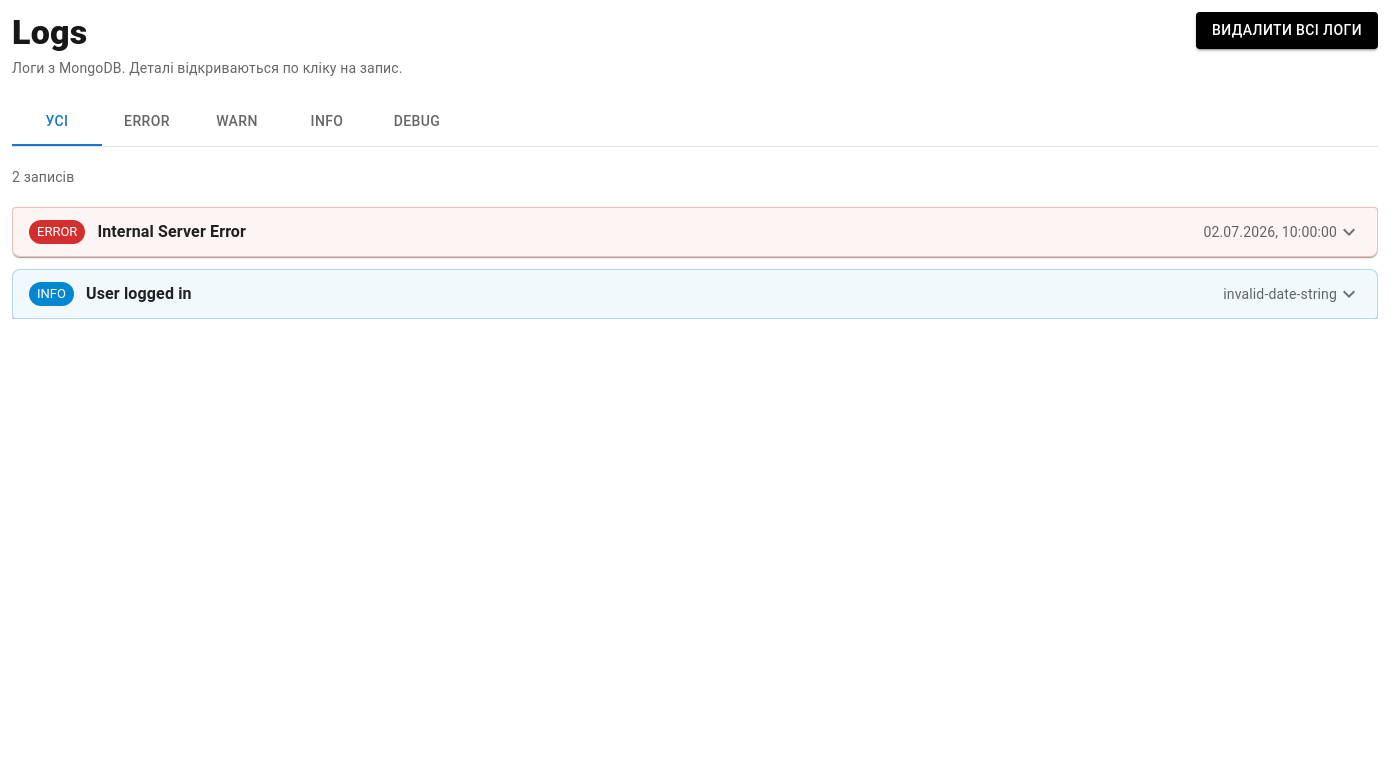
it: LogsPageClient › renders LogItem details and handles JsonBlock
Click the text "Internal Server Error". click: (172,232)
box: [97, 222, 246, 241]
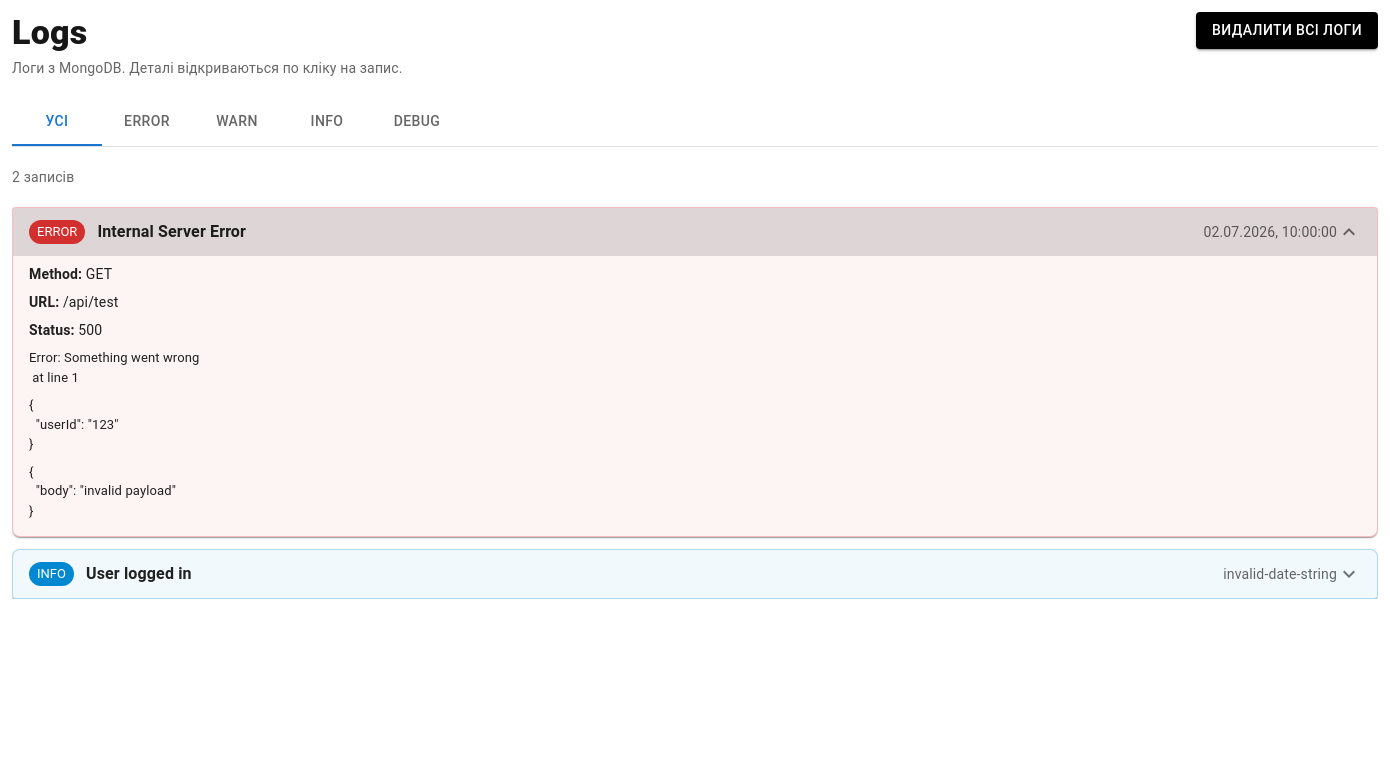
Check: the text "GET" is shown, box [86, 266, 112, 282]
Check: the text "/api/test" is shown, box [63, 294, 118, 310]
Check: the text "500" is shown, box [78, 322, 102, 338]
Click the text "User logged in". click: (139,574)
box: [86, 564, 192, 583]
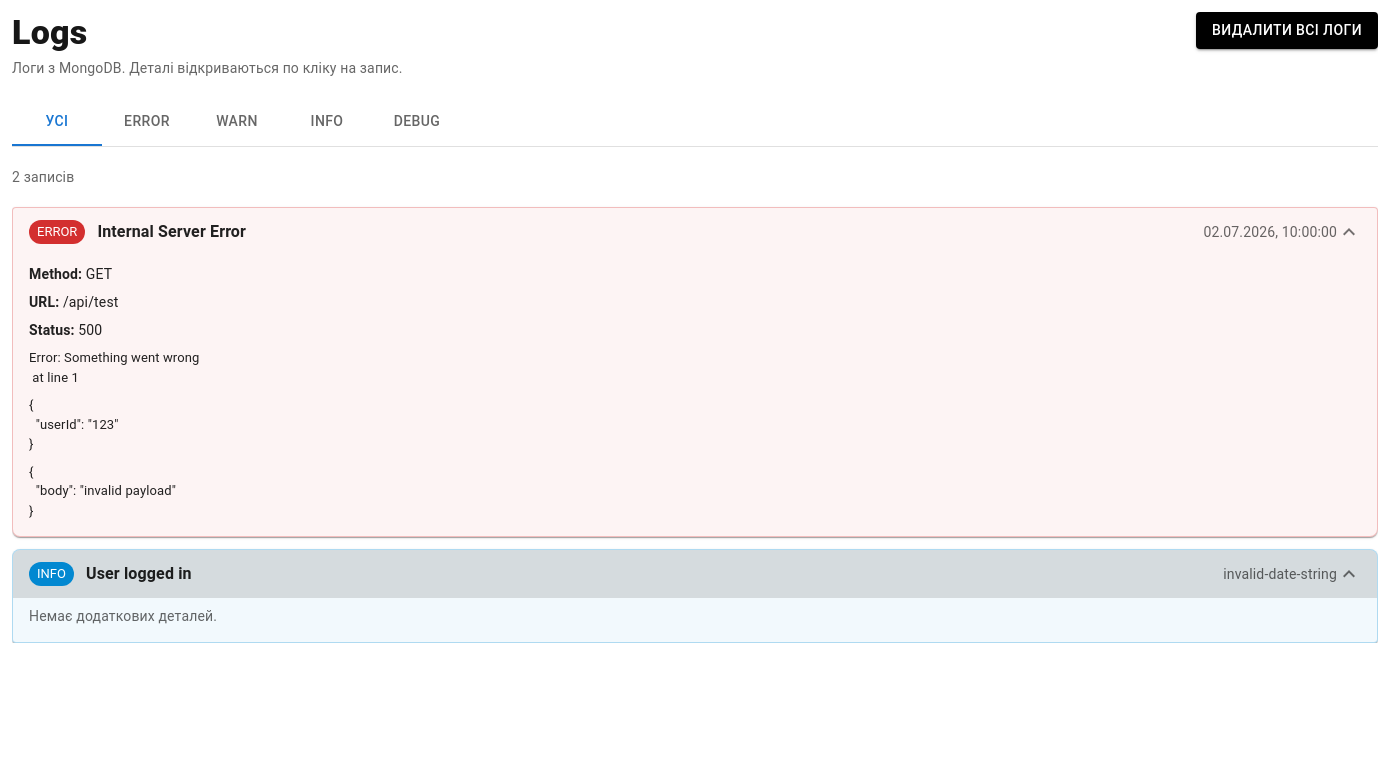
Check: the text "invalid-date-string" is shown, box [1223, 564, 1337, 584]
Check: the text "Немає додаткових деталей." is shown, box [29, 608, 217, 624]
